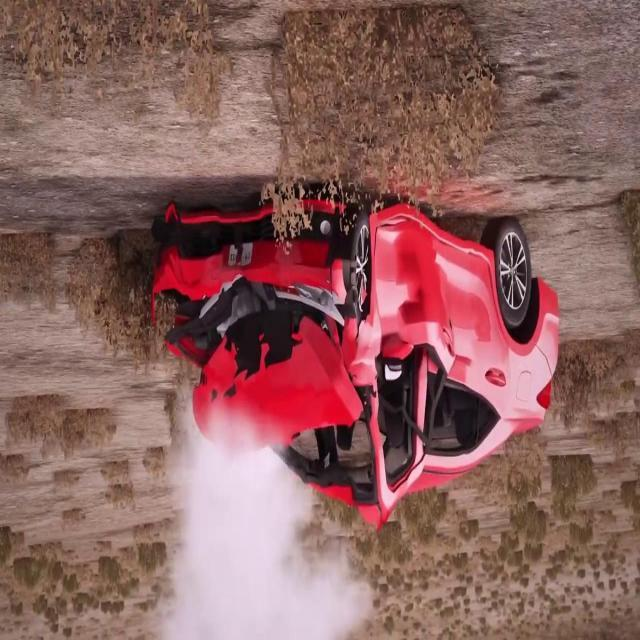severe: (141, 186, 565, 528)
